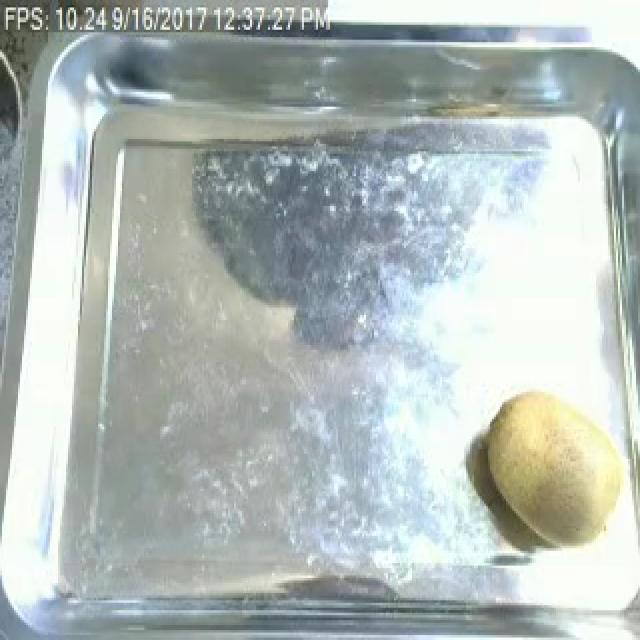Fruit: (476, 375, 640, 558)
